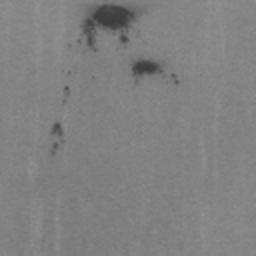Iron sheet ash: (76, 3, 138, 52), (132, 59, 165, 78), (51, 122, 63, 140), (170, 73, 180, 87), (51, 143, 59, 156), (64, 86, 69, 96)
